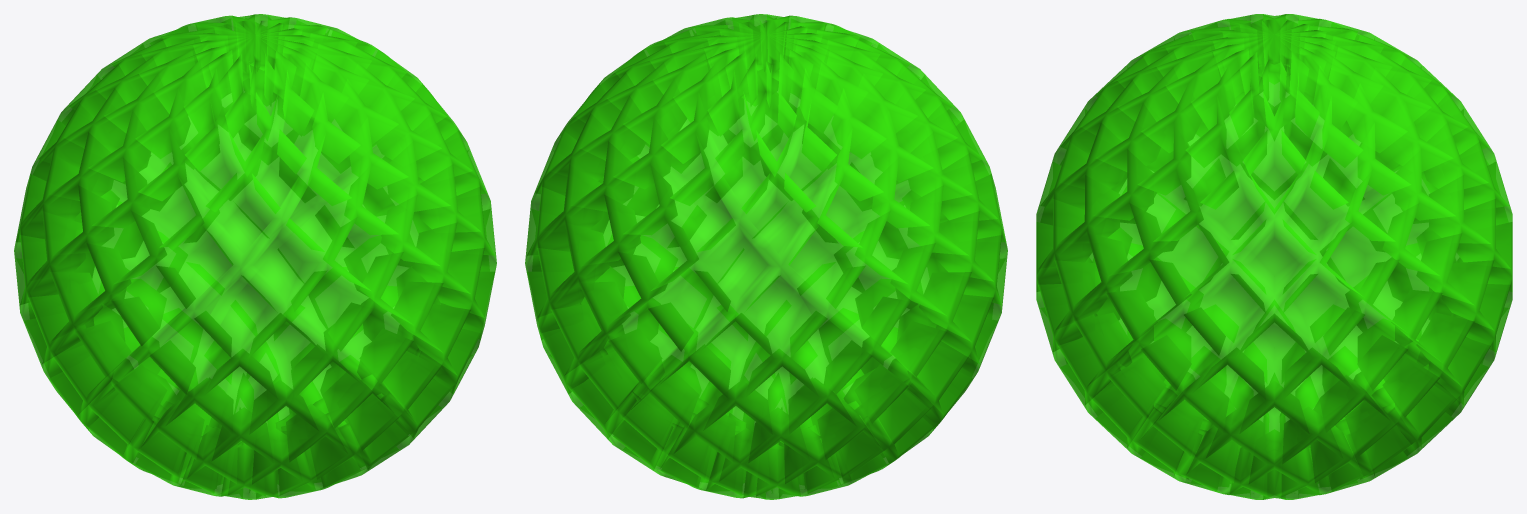
The model's file is green_glass_matrix.glb.
3 views of the same model, side by side, from view 1: azimuth 30°, elevation 25°; view 2: azimuth 150°, elevation 25°; view 3: azimuth 270°, elevation 25° (orthographic).
Parts seen in each view (by area): view 1: Sphere.028; view 2: Sphere.028; view 3: Sphere.028.
Boxes of the visible parts, bbox=[...] form: Sphere.028: bbox=[14, 14, 496, 499]; Sphere.028: bbox=[525, 14, 1007, 499]; Sphere.028: bbox=[1036, 14, 1512, 499].
Size of the model in its own units: 1.94 by 2 by 1.94.
